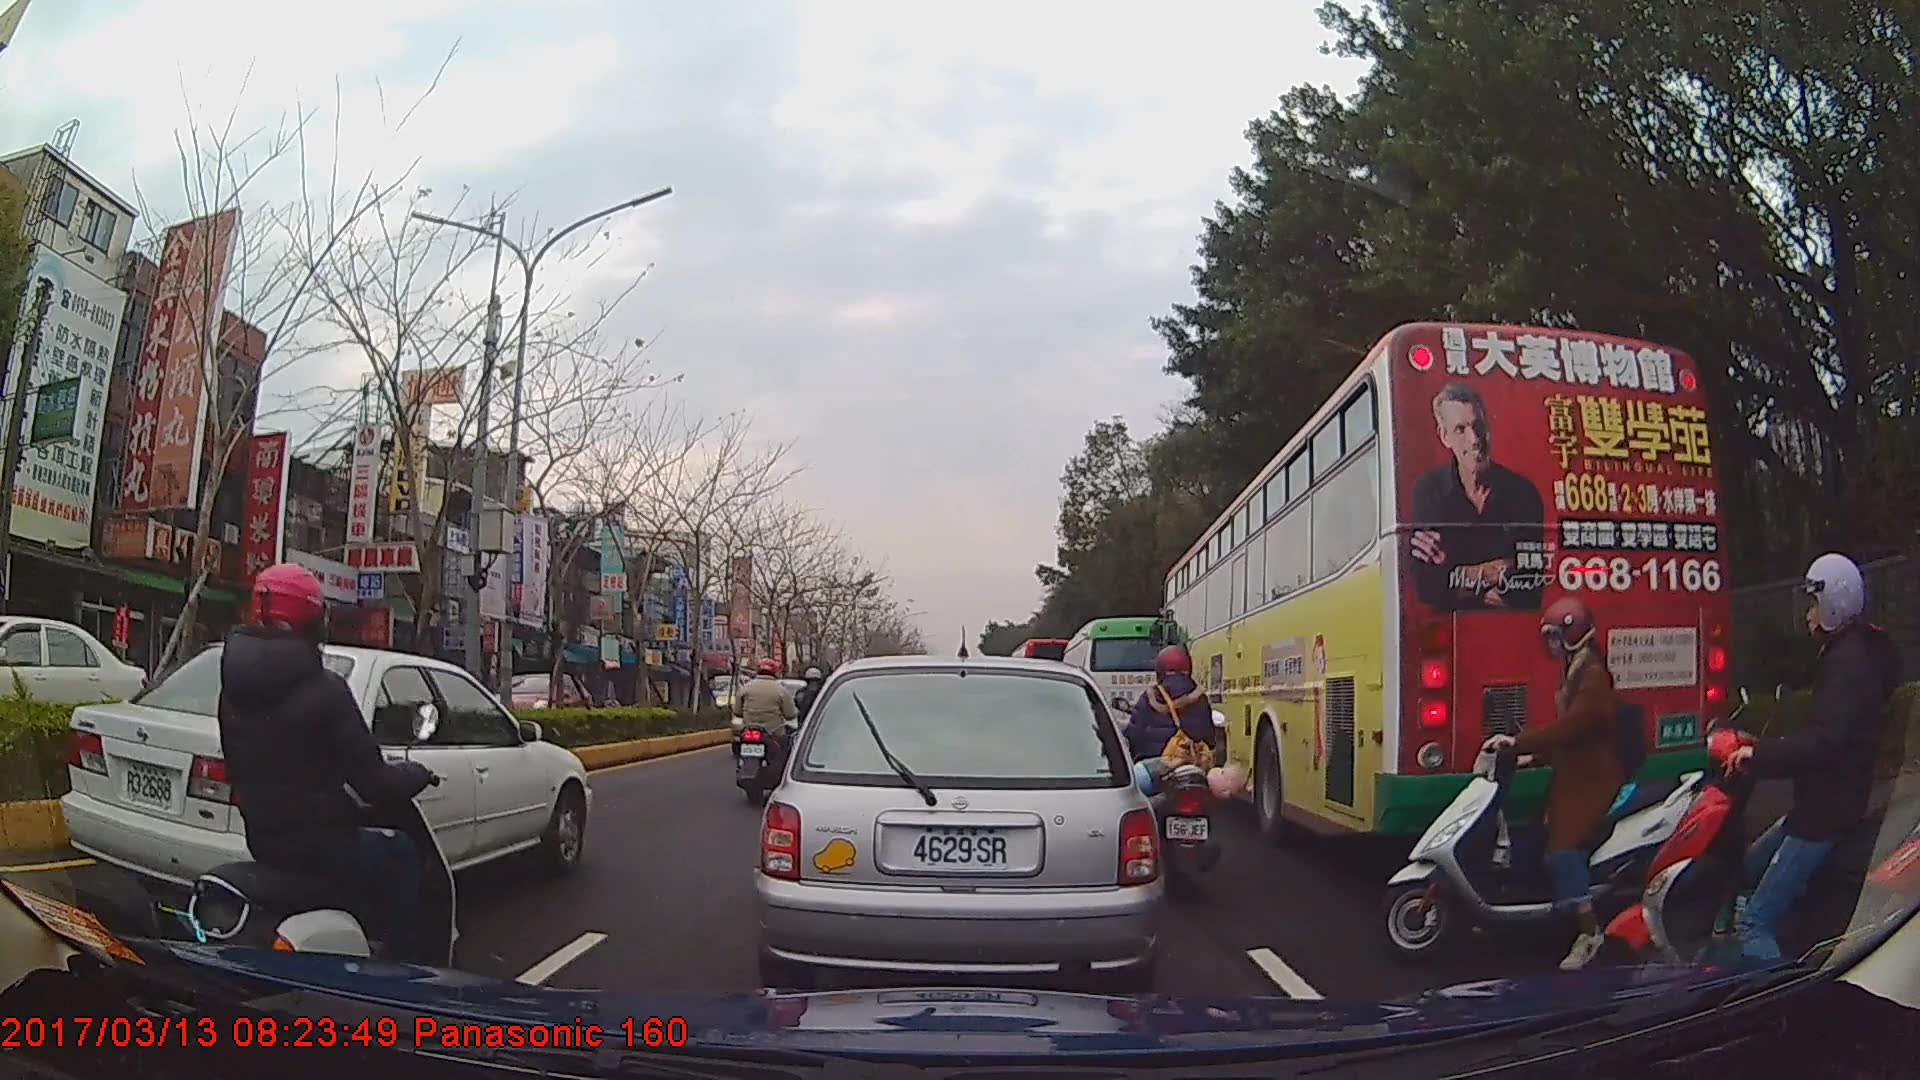rider: (1608, 554, 1914, 1003), (1370, 593, 1714, 970), (189, 560, 465, 997), (1117, 647, 1244, 896), (732, 657, 795, 806)
vehicle: (1159, 319, 1730, 846), (64, 632, 594, 928), (749, 655, 1163, 991), (0, 615, 171, 753), (1059, 615, 1171, 756), (485, 670, 591, 738)
